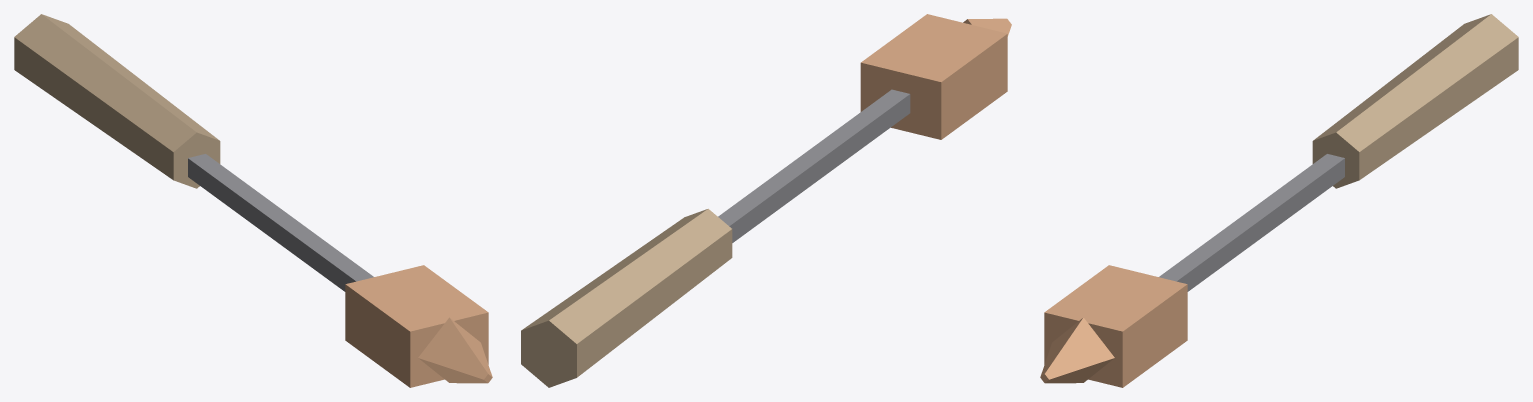
Rendered from prop-soldering-iron-blank.fbx.
3 renders of one model, left to right at view 1: azimuth 30°, elevation 25°; view 2: azimuth 150°, elevation 25°; view 3: azimuth 330°, elevation 25°, orthographic. The views are drawn at different scales.
Visible parts, largest first — view 1: prop-soldering-iron-blank; view 2: prop-soldering-iron-blank; view 3: prop-soldering-iron-blank.
Part boxes in pixels (<box>): prop-soldering-iron-blank: <box>14,14,492,387</box>; prop-soldering-iron-blank: <box>521,14,1011,387</box>; prop-soldering-iron-blank: <box>1040,14,1518,387</box>.
Size of the model in its own units: 3.5 by 3 by 34.5.
